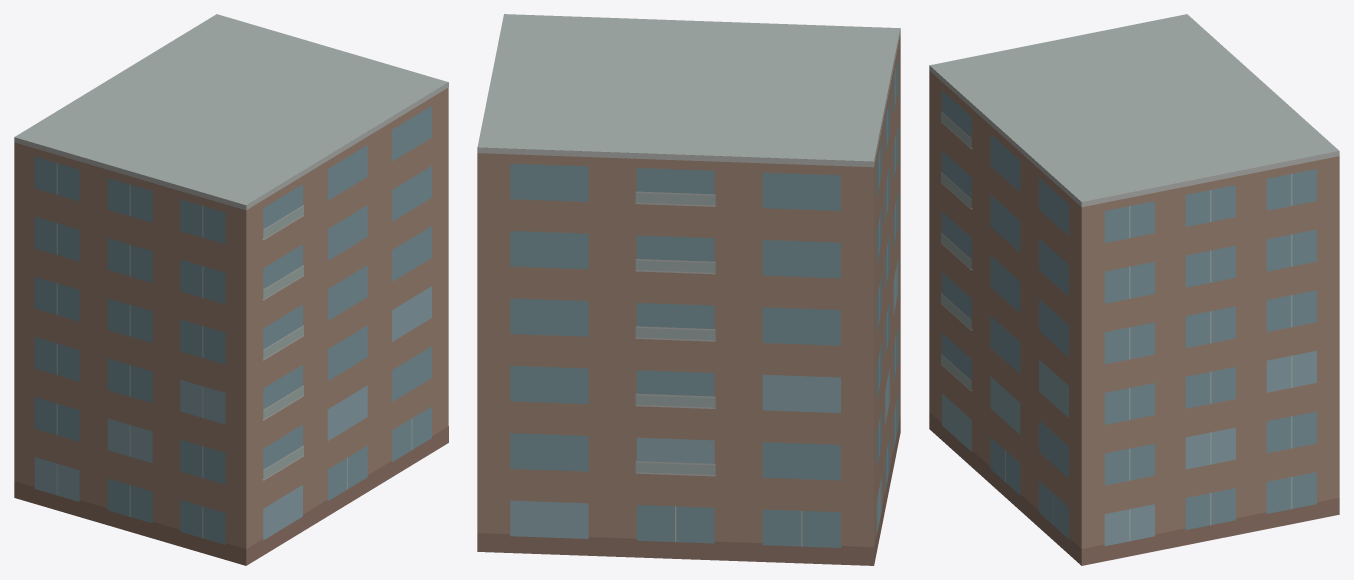
File: survey-upis-32952144.glb
The picture shows the model from 3 angles, left to right: view 1: azimuth 30°, elevation 25°; view 2: azimuth 150°, elevation 25°; view 3: azimuth 270°, elevation 25°; orthographic projection. The views are drawn at different scales.
Parts seen in each view (by area): view 1: survey-upis-32952144.tmp; view 2: survey-upis-32952144.tmp; view 3: survey-upis-32952144.tmp.
Part boxes in pixels (x1,y1,x2,y2): survey-upis-32952144.tmp: [14, 14, 448, 565]; survey-upis-32952144.tmp: [477, 14, 900, 565]; survey-upis-32952144.tmp: [929, 14, 1339, 565].
Bounding box in the file's own units: 19.09 × 17.2 × 17.59.
